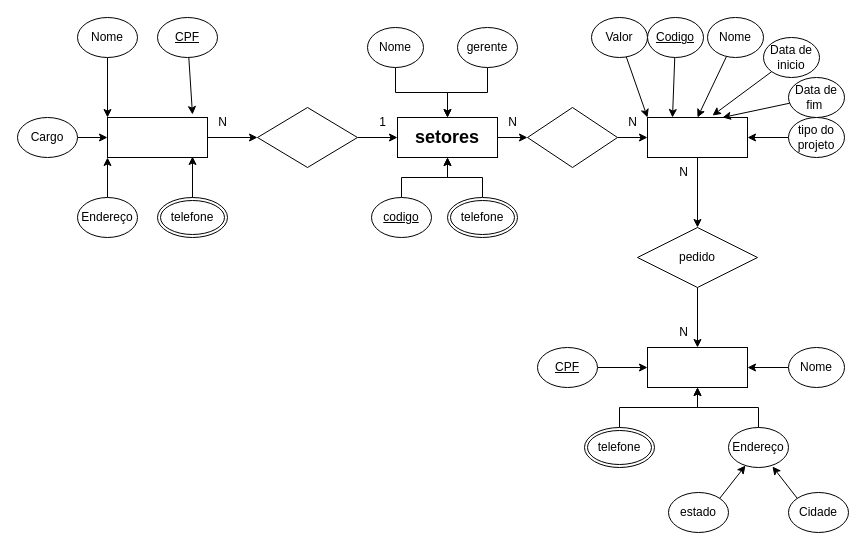
This 866x550 diagram has some shape labels left out. Each missing label, with the box of its shape:
clientes: (646, 346, 748, 388)
funcionarios: (106, 116, 208, 158)
pertense: (526, 106, 618, 168)
projetos: (646, 116, 748, 158)
Trabalham: (256, 106, 358, 168)
